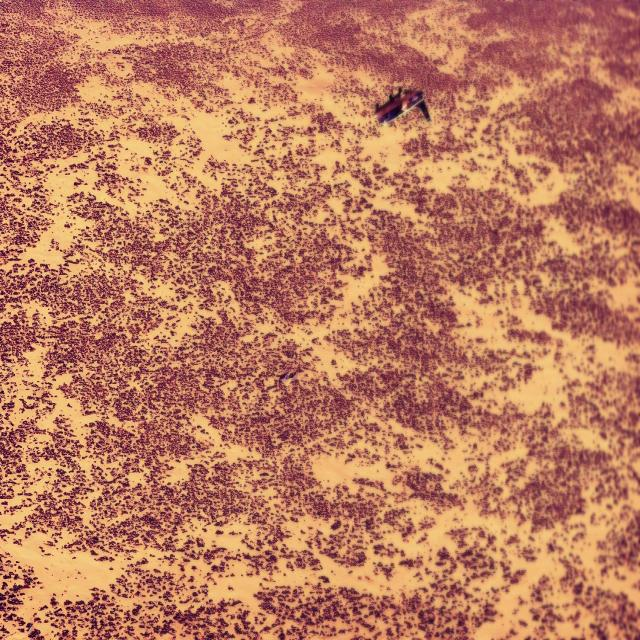airplane: (374, 85, 431, 127)
